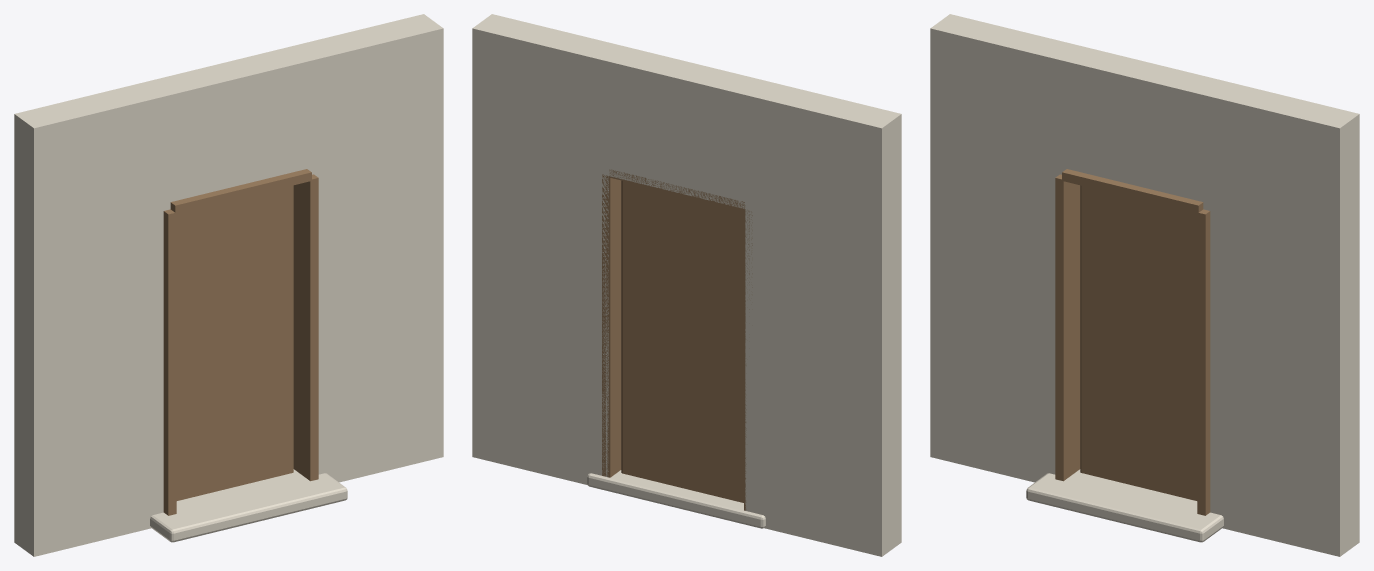
The model's file is kit_door.glb.
The picture shows the model from 3 angles, left to right: view 1: azimuth 30°, elevation 25°; view 2: azimuth 150°, elevation 25°; view 3: azimuth 330°, elevation 25°; orthographic projection.
Parts seen in each view (by area): view 1: kit_door; view 2: kit_door; view 3: kit_door.
Boxes of the visible parts, <box> form: kit_door: <box>14,14,443,556</box>; kit_door: <box>472,14,901,556</box>; kit_door: <box>930,14,1359,556</box>.
Size of the model in its own units: 3 by 3 by 0.55.
